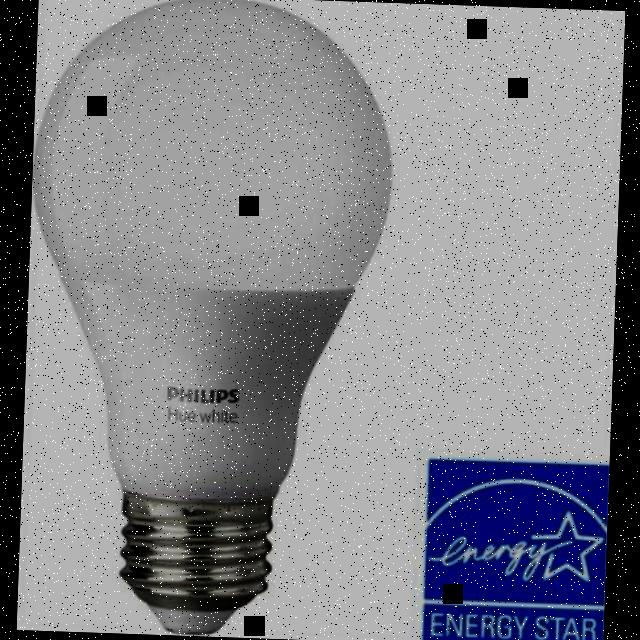light_bulb: (17, 0, 393, 631)
